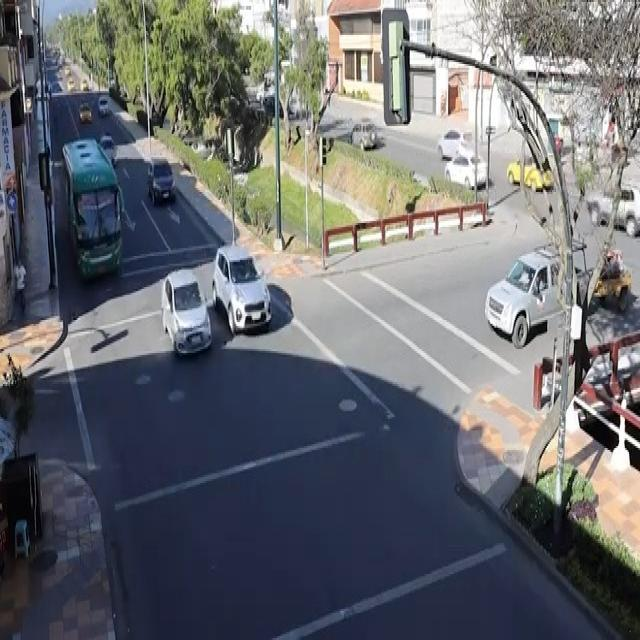BUS: (63, 144, 122, 282)
CMT: (487, 244, 598, 344)
